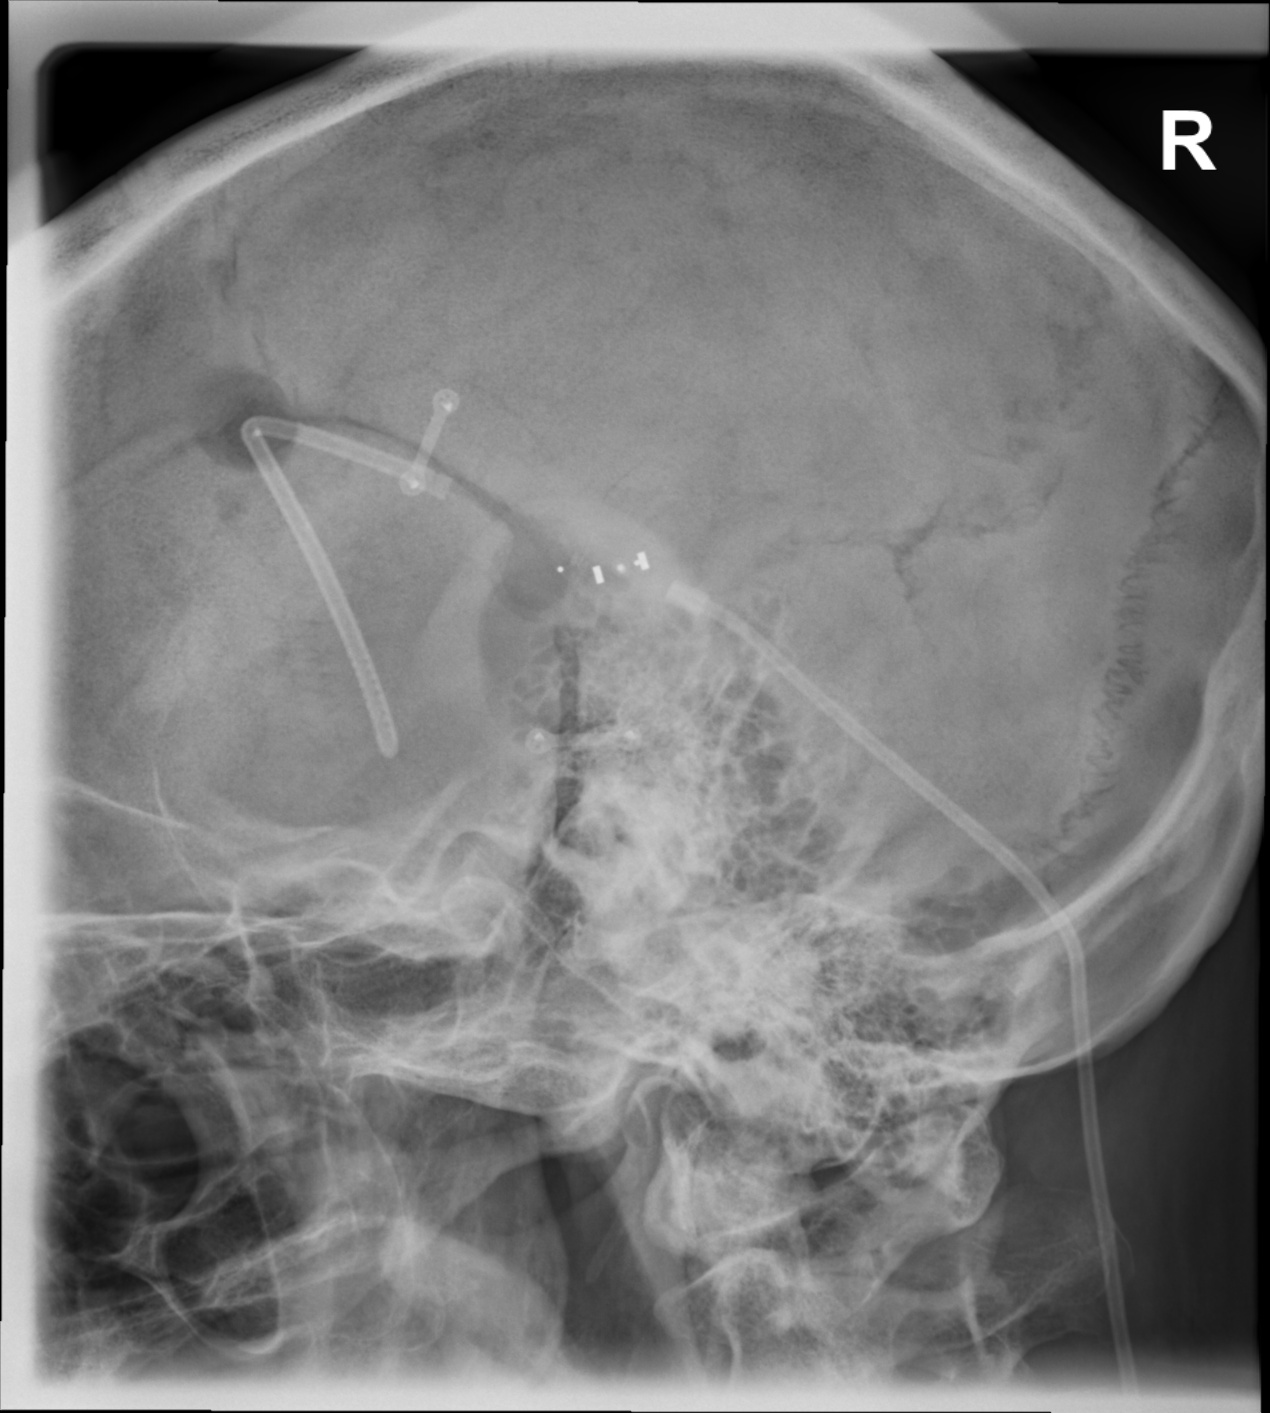Codman Certas: (549, 511, 660, 605)
